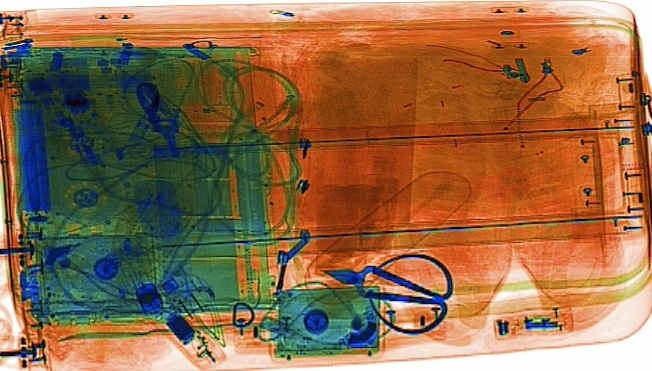scissors: (316, 253, 454, 336)
